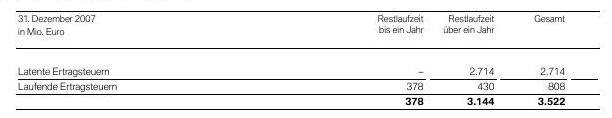table: (0, 0, 612, 118)
